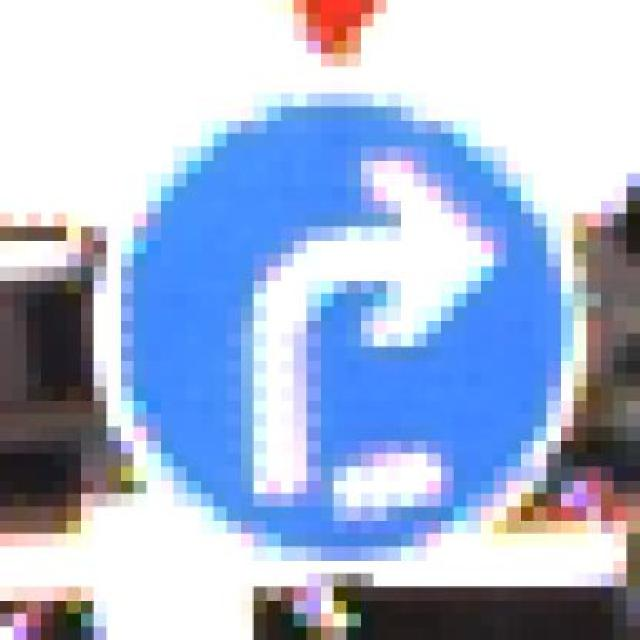Turn right ahead: (53, 66, 601, 560)
